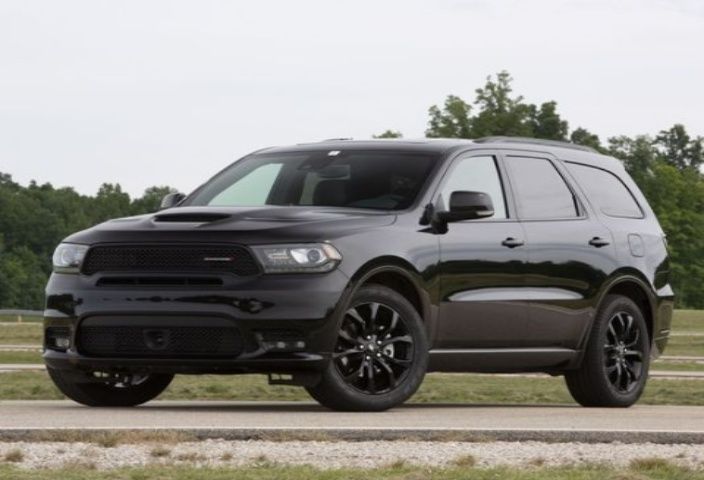camper: (6, 119, 688, 425)
